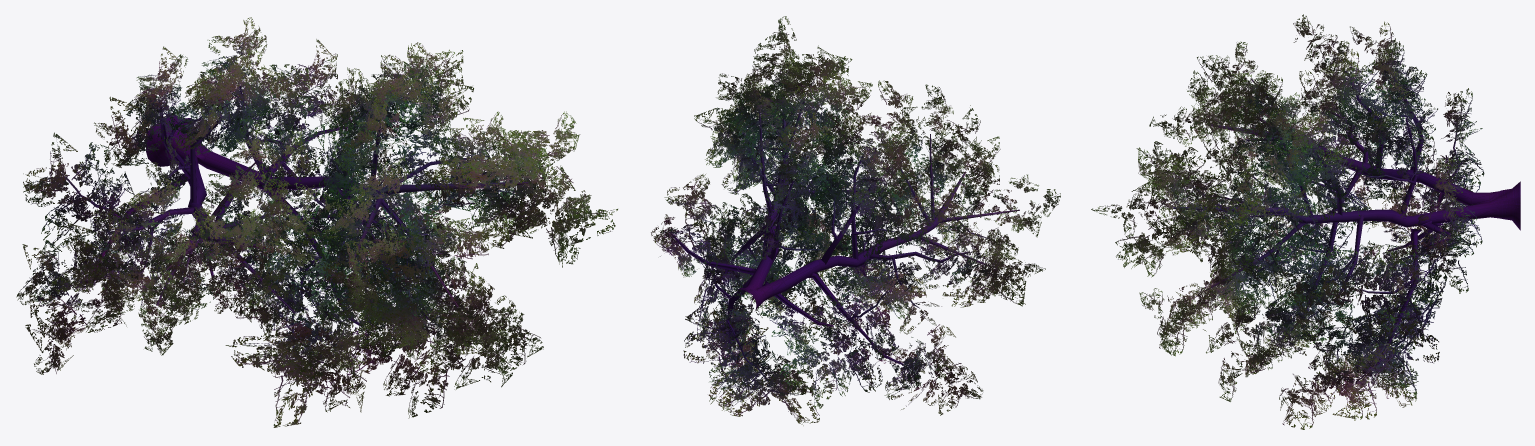
Rendered from oak_large_oak_tree_003_lod2.glb.
3 renders of one model, left to right at view 1: azimuth 30°, elevation 25°; view 2: azimuth 150°, elevation 25°; view 3: azimuth 270°, elevation 25°, orthographic. The views are drawn at different scales.
Parts seen in each view (by area): view 1: Large_oak_tree_003_LOD2; view 2: Large_oak_tree_003_LOD2; view 3: Large_oak_tree_003_LOD2.
Part boxes in pixels (box(x1,y1,x2,y2)): Large_oak_tree_003_LOD2: box(16, 17, 617, 427); Large_oak_tree_003_LOD2: box(651, 16, 1060, 425); Large_oak_tree_003_LOD2: box(1091, 14, 1520, 429).
Size of the model in its own units: 28.4 by 25.69 by 27.85.
Materials: 2 (2 with a texture image).
